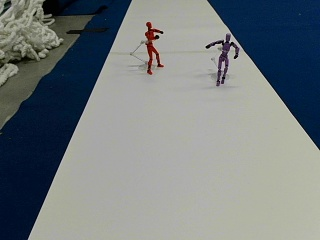pedestrian: (204, 34, 239, 84), (143, 20, 163, 73)
